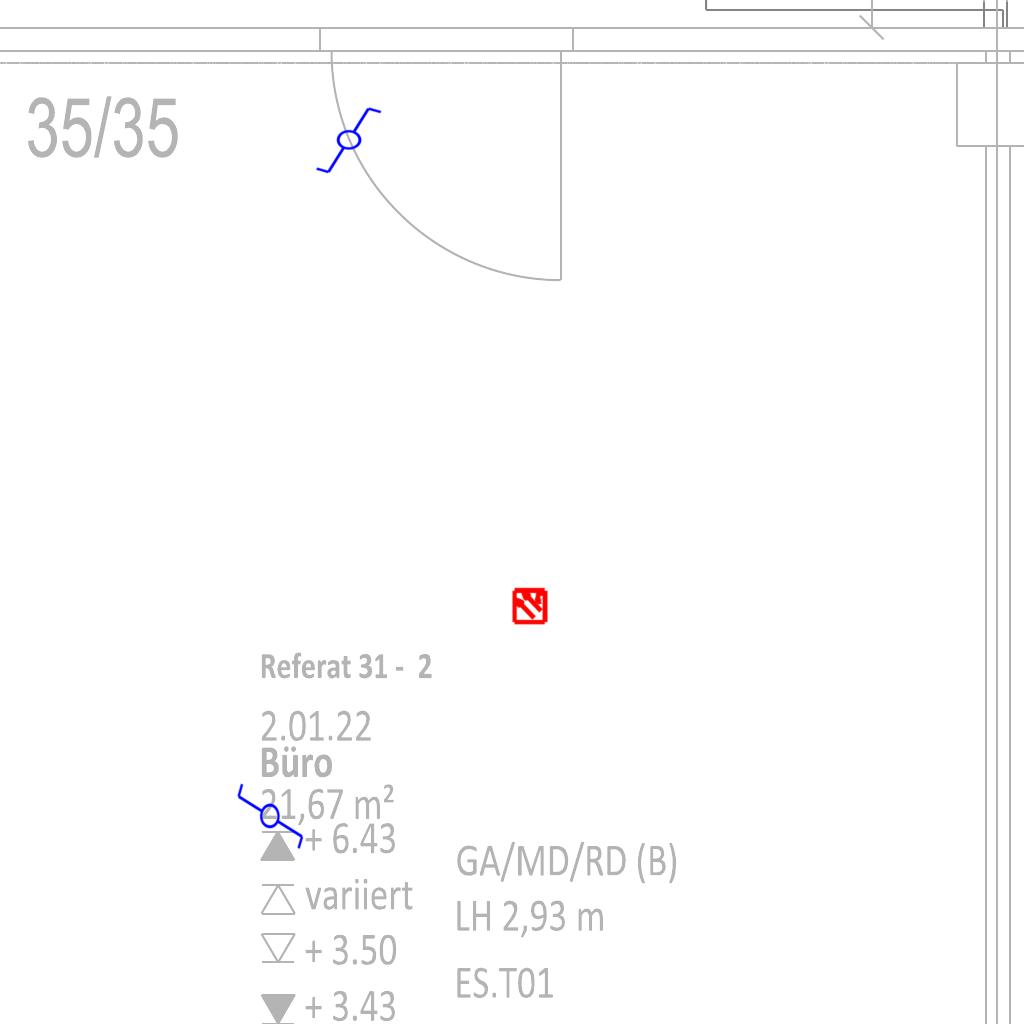OT_Multisensormelder_(Kombination_RMO_WMD): (502, 577, 558, 633)
Wechselschalter: (314, 105, 392, 177), (235, 773, 307, 851)
